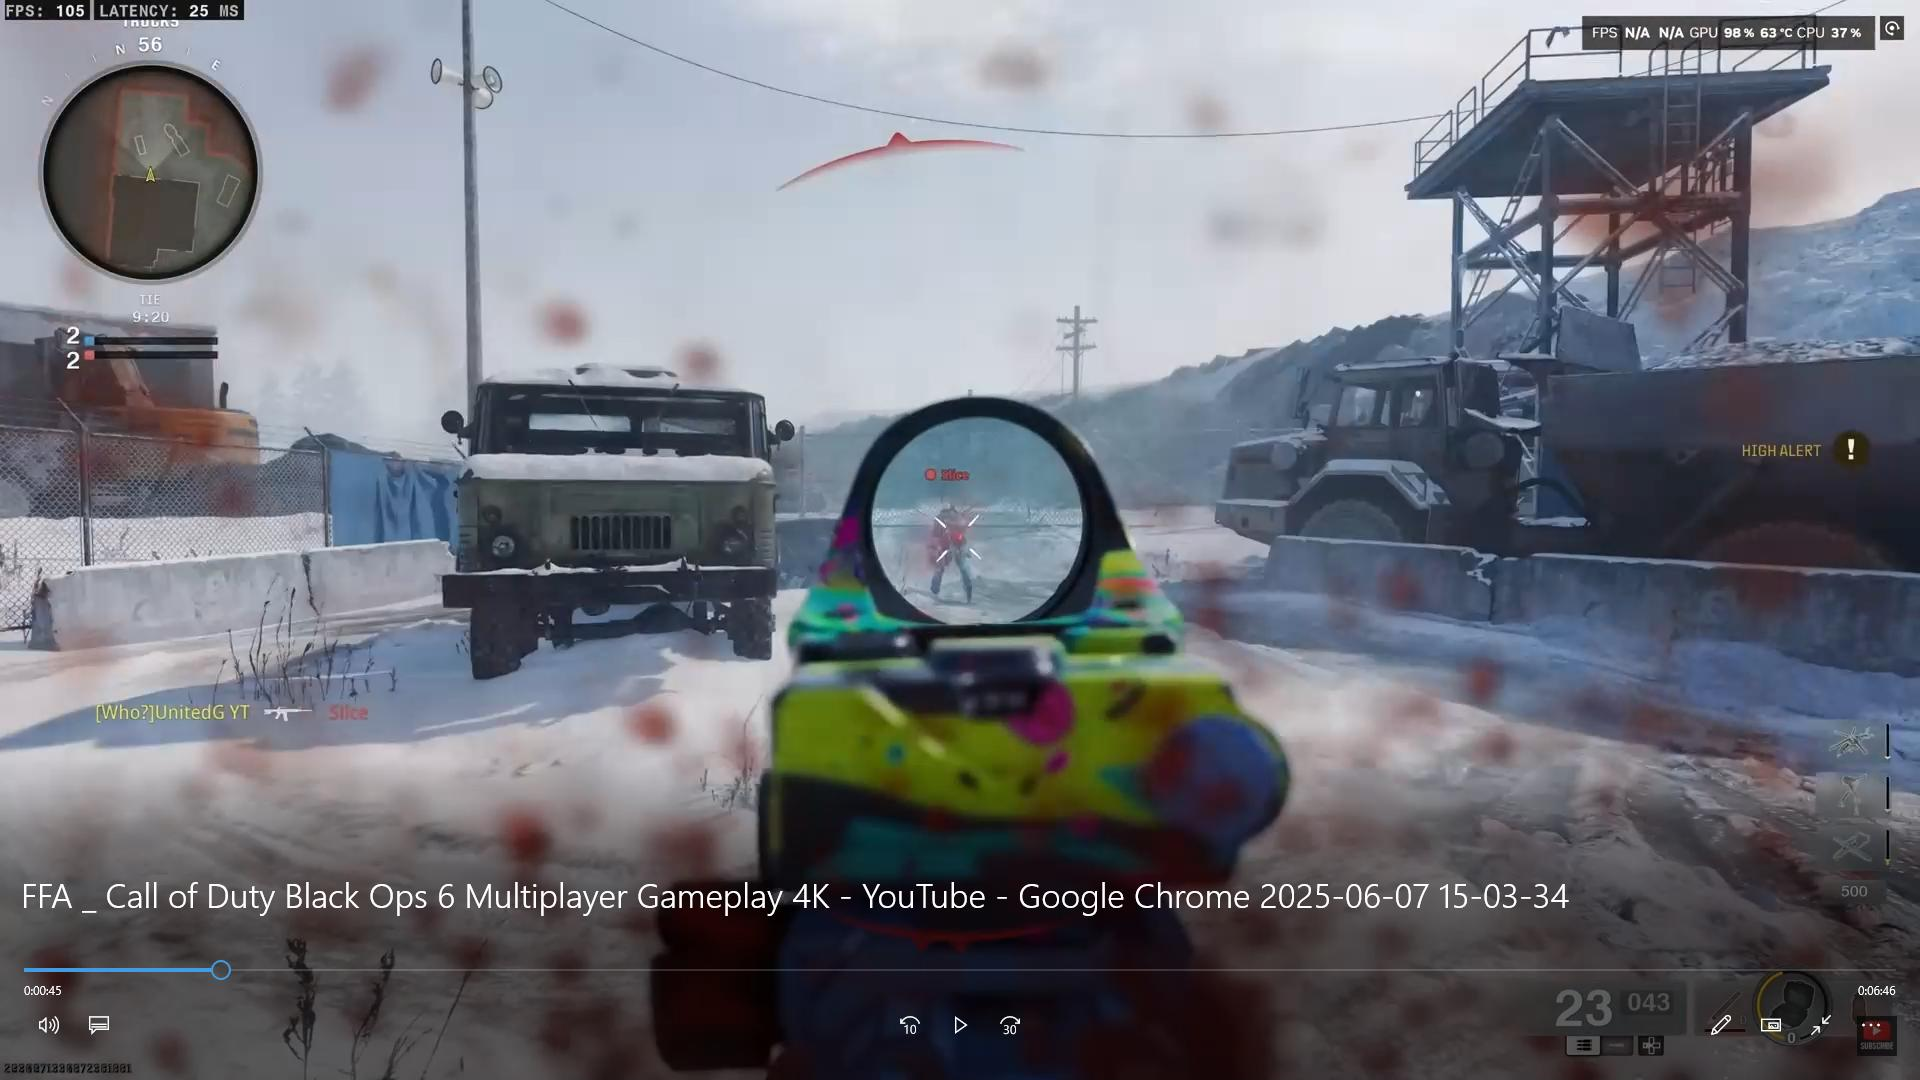Enemy: (915, 492, 985, 605)
